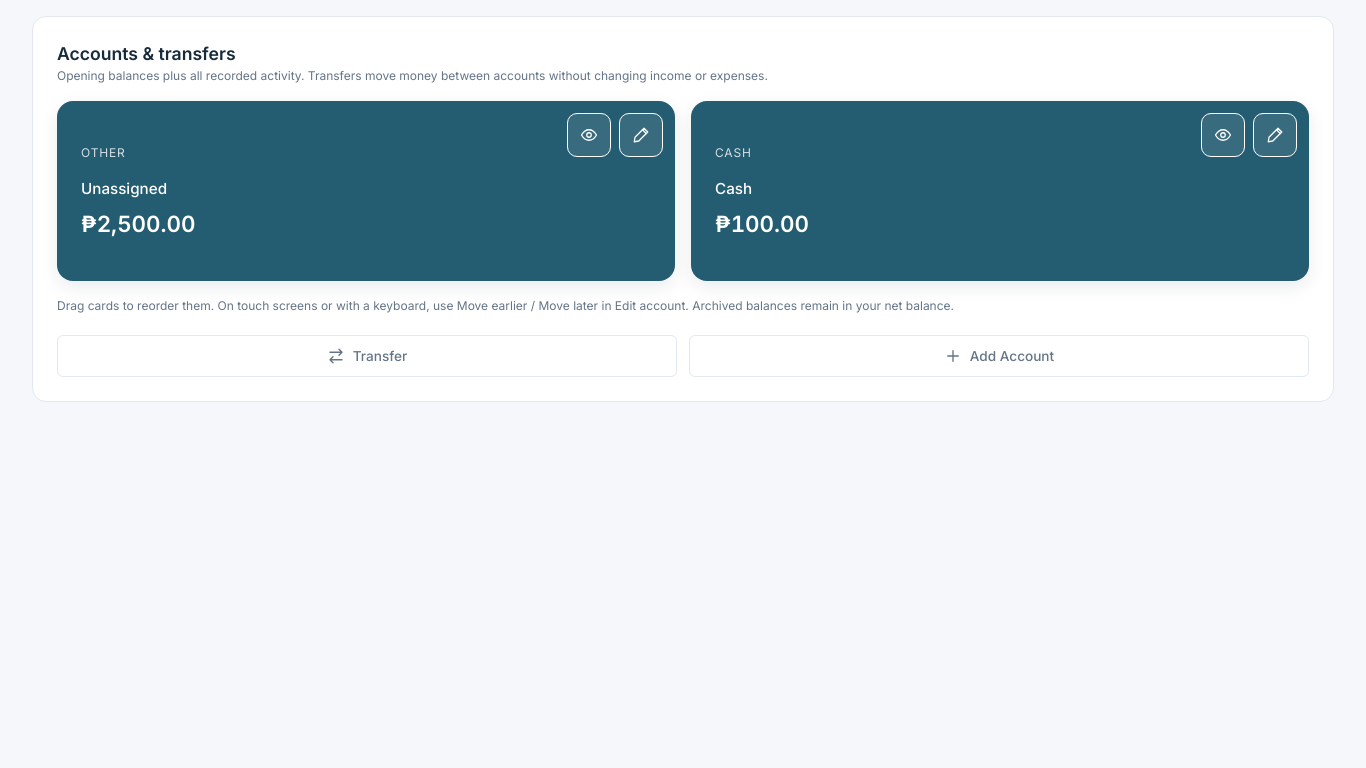
Scenario: account modal workflows › allows resetting the unassigned opening balance without removing activity or the account
Later steps or results of the test are not shown.
Click the button named "Edit Unassigned account" at (641, 135), box [619, 113, 663, 157]
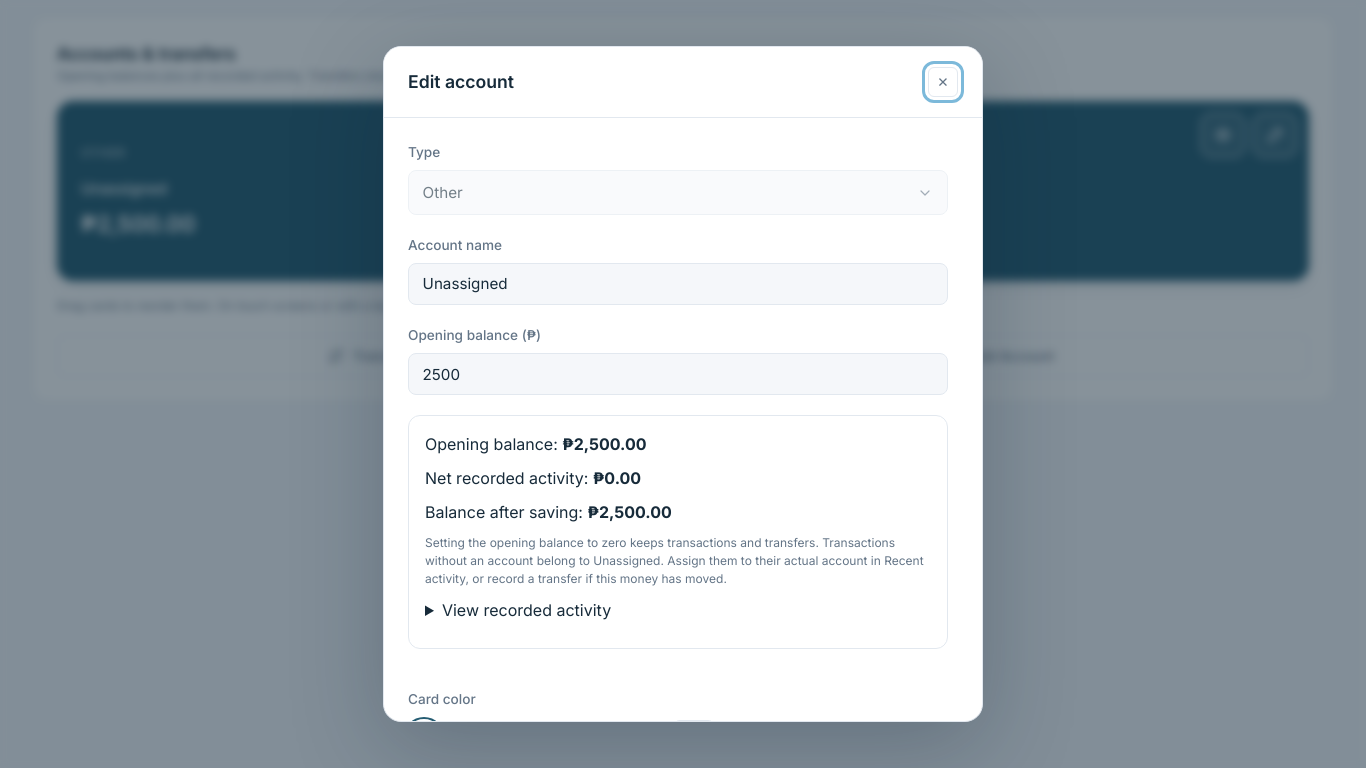
Now the field labelled "Account name" is disabled, box [408, 263, 948, 305]
Now the dropdown labelled "Type" is disabled, box [408, 170, 948, 215]
